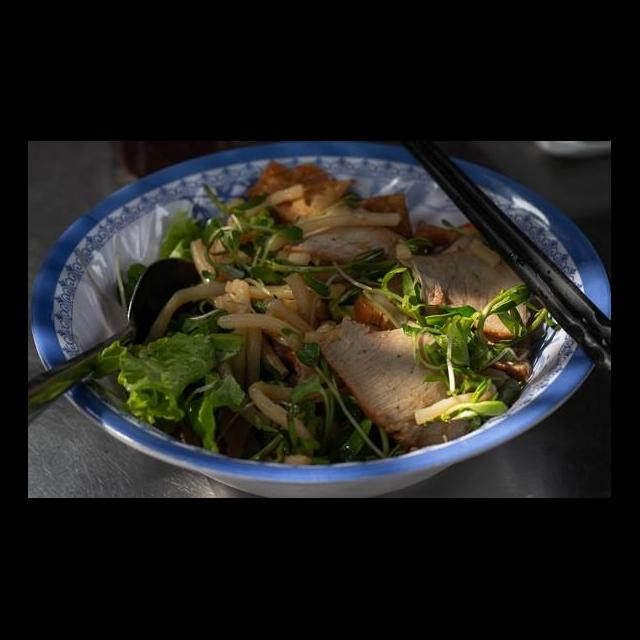banh da: (240, 158, 352, 230)
mi: (140, 183, 350, 454)
mi quang: (36, 180, 612, 498)
thit heo: (302, 312, 486, 452), (350, 272, 538, 382), (392, 238, 542, 340), (280, 212, 414, 266)
